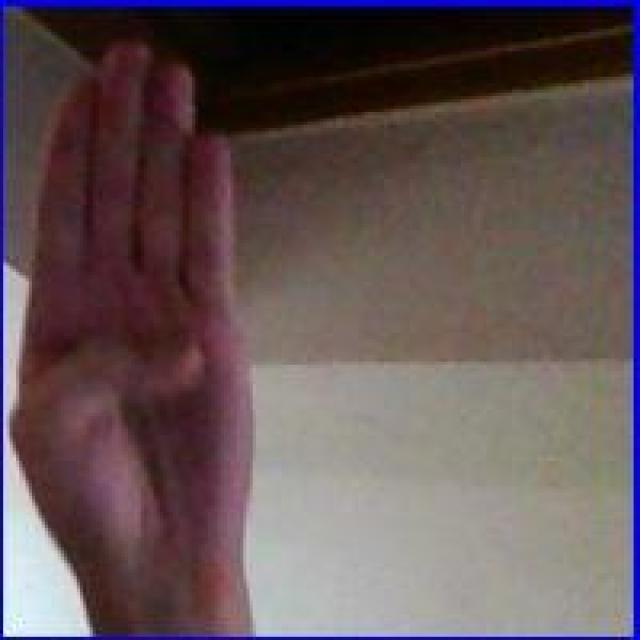B: (6, 32, 256, 630)
